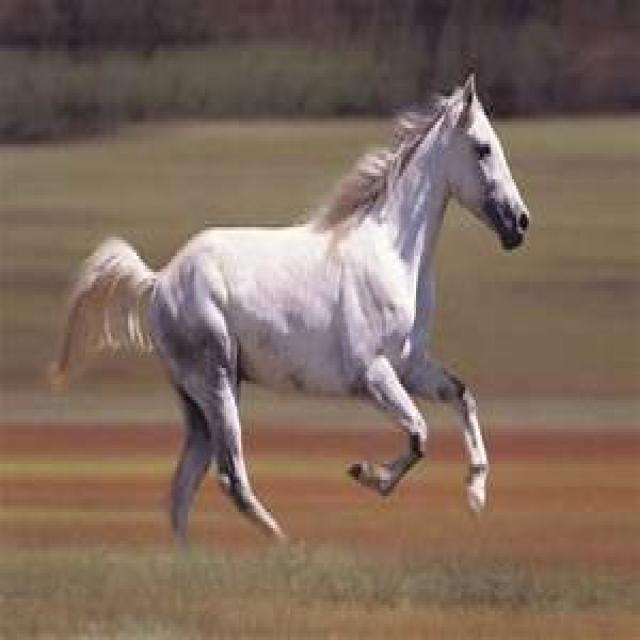horse: (45, 70, 531, 550)
